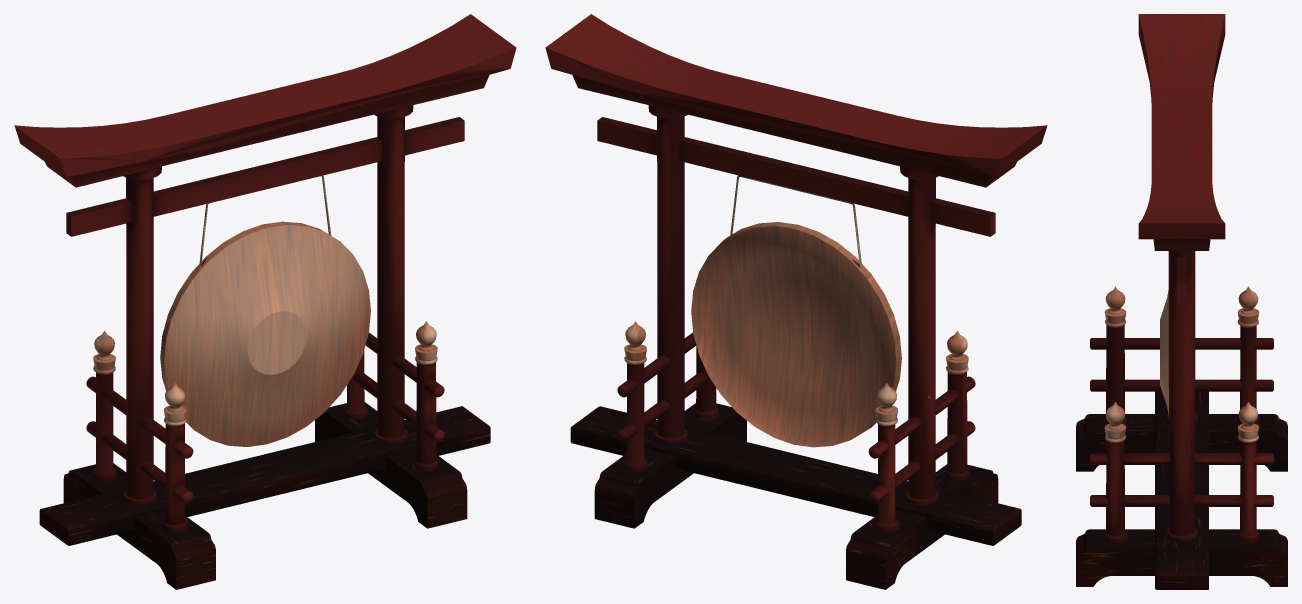
Rendered from gong.glb.
3 views of the same model, side by side, from view 1: azimuth 30°, elevation 25°; view 2: azimuth 150°, elevation 25°; view 3: azimuth 270°, elevation 25° (orthographic). The views are drawn at different scales.
Visible parts, largest first — view 1: Gong triangulated; view 2: Gong triangulated; view 3: Gong triangulated.
Boxes of the visible parts, x1,y1,x2,y2 form: Gong triangulated: [14, 14, 516, 589]; Gong triangulated: [545, 14, 1047, 589]; Gong triangulated: [1076, 14, 1287, 589].
Bounding box in the file's own units: 4.72 × 4.22 × 2.02.
1 material, 1 textured.
